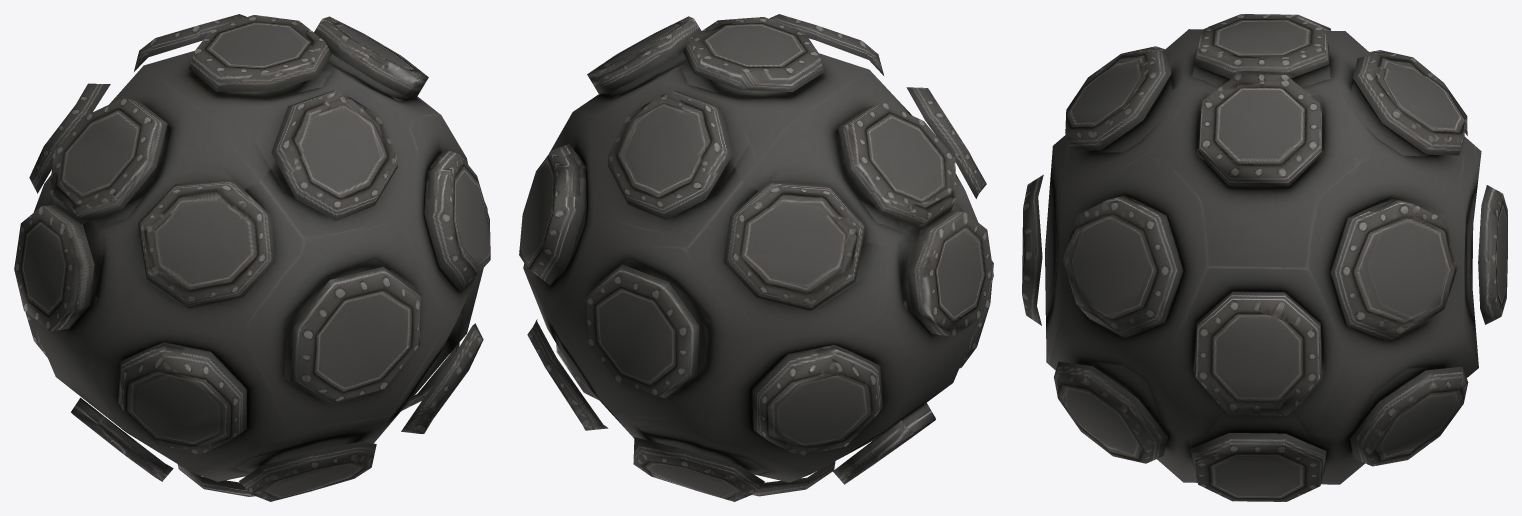
File: cold-iron-v2-hub-a-sphere.glb
3 views of the same model, side by side, from view 1: azimuth 30°, elevation 25°; view 2: azimuth 150°, elevation 25°; view 3: azimuth 270°, elevation 25° (orthographic). The views are drawn at different scales.
Parts seen in each view (by area): view 1: tripo_node_b60ae4bf-78b5-4112-949c-96810dd8a87e; view 2: tripo_node_b60ae4bf-78b5-4112-949c-96810dd8a87e; view 3: tripo_node_b60ae4bf-78b5-4112-949c-96810dd8a87e.
Part boxes in pixels (x1=…): tripo_node_b60ae4bf-78b5-4112-949c-96810dd8a87e: x1=14, y1=14, x2=490, y2=501; tripo_node_b60ae4bf-78b5-4112-949c-96810dd8a87e: x1=519, y1=14, x2=993, y2=501; tripo_node_b60ae4bf-78b5-4112-949c-96810dd8a87e: x1=1022, y1=14, x2=1507, y2=501.
Size of the model in its own units: 1.03 by 1 by 0.9935.
1 material, 1 textured.
